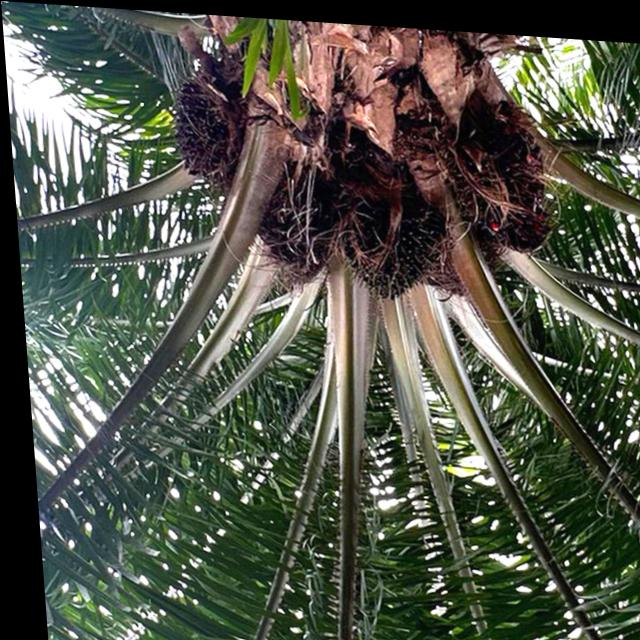unripe: (326, 178, 451, 302)
